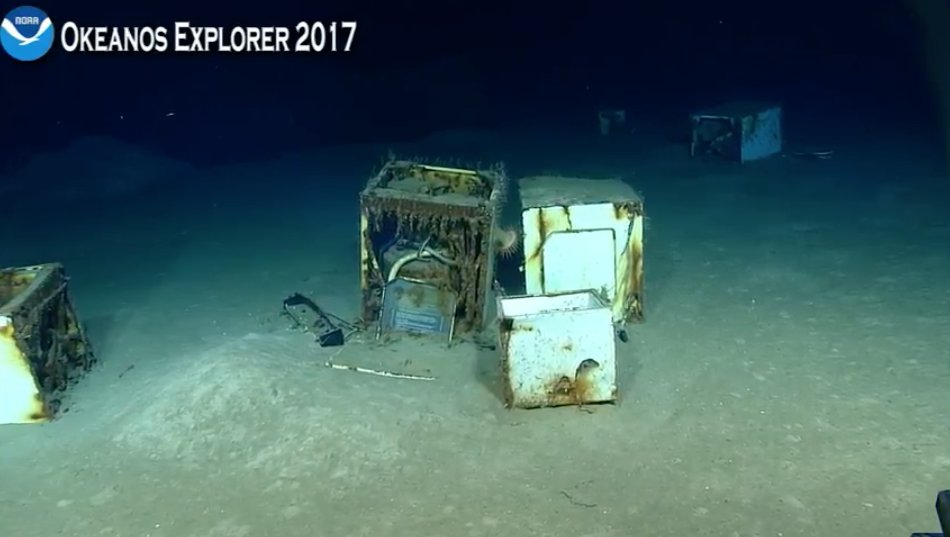Container: (355, 159, 507, 341), (514, 171, 648, 324), (1, 256, 101, 426), (494, 288, 627, 412), (689, 96, 783, 164)
